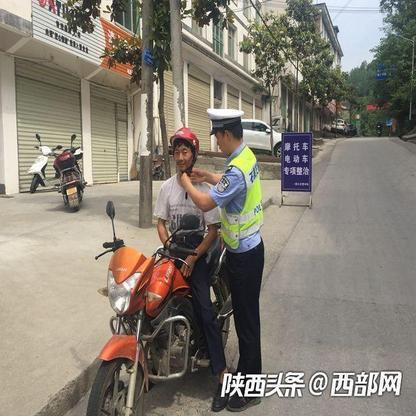target: (85, 126, 227, 413)
